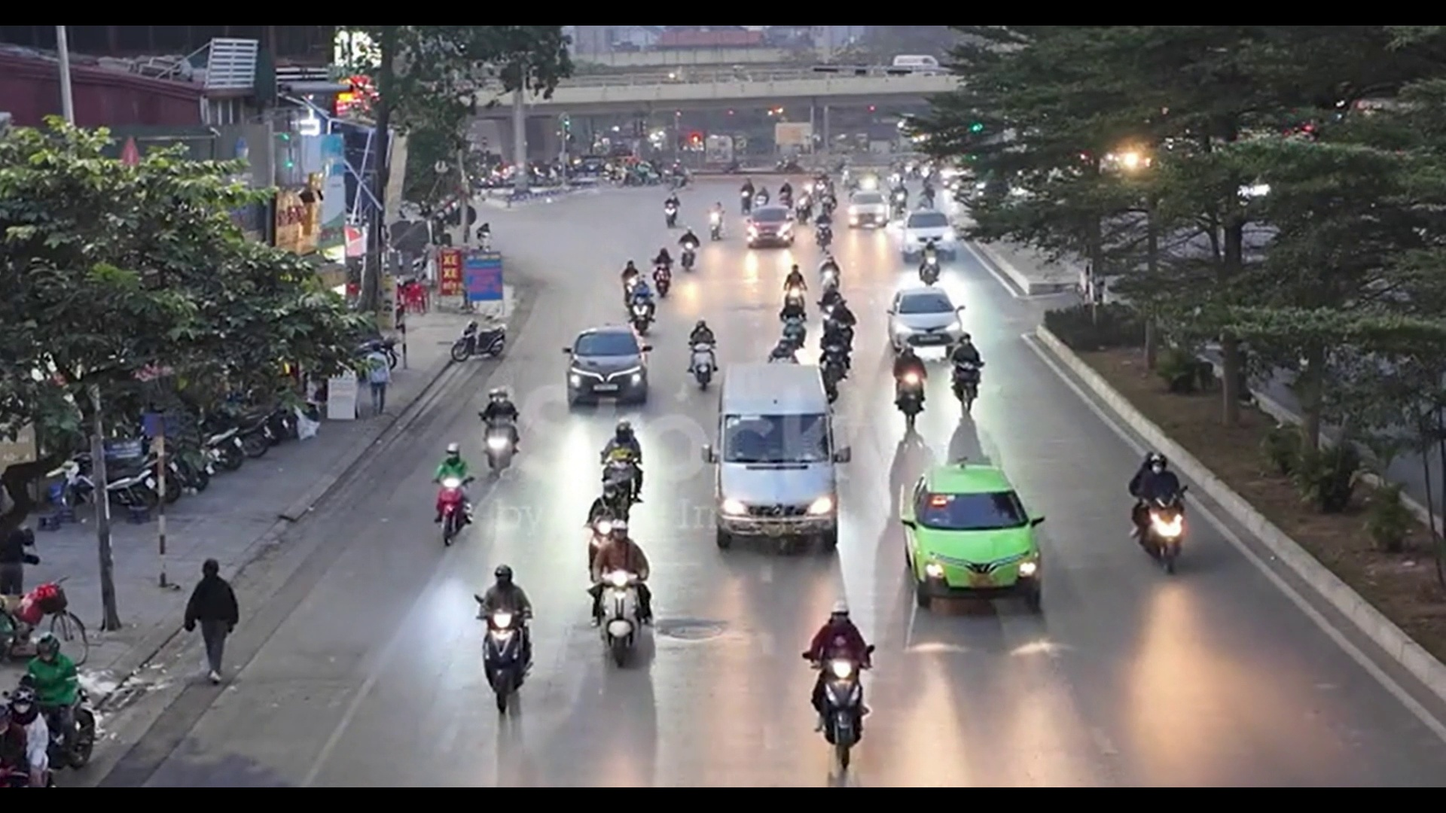car: (903, 463, 1048, 611), (566, 324, 650, 409), (888, 287, 964, 352), (743, 204, 796, 247)
motorcycle: (811, 667, 869, 786), (587, 570, 654, 670), (481, 608, 533, 717), (1131, 501, 1186, 573), (432, 481, 473, 550)
truck: (712, 358, 842, 554)
